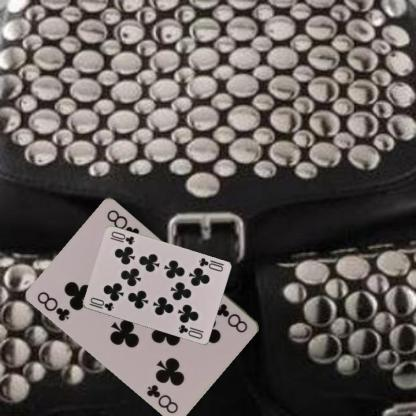10c: (196, 256, 225, 274), (87, 294, 115, 312)
8c: (34, 289, 72, 323), (214, 300, 249, 334)
